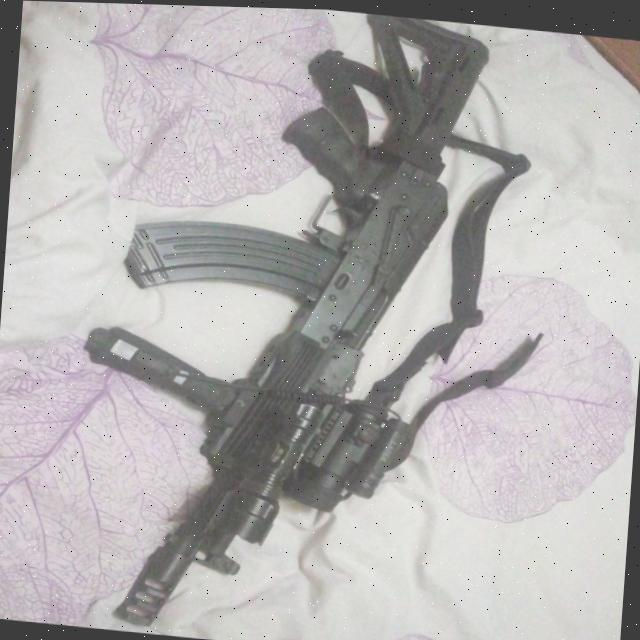firearm: (61, 1, 494, 640)
